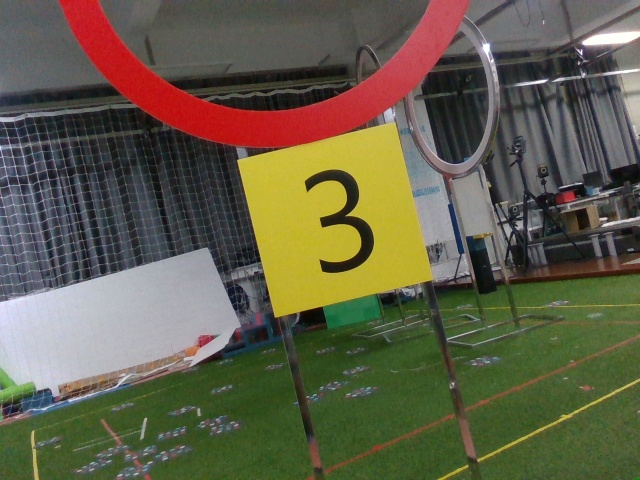target: (251, 146, 417, 300)
